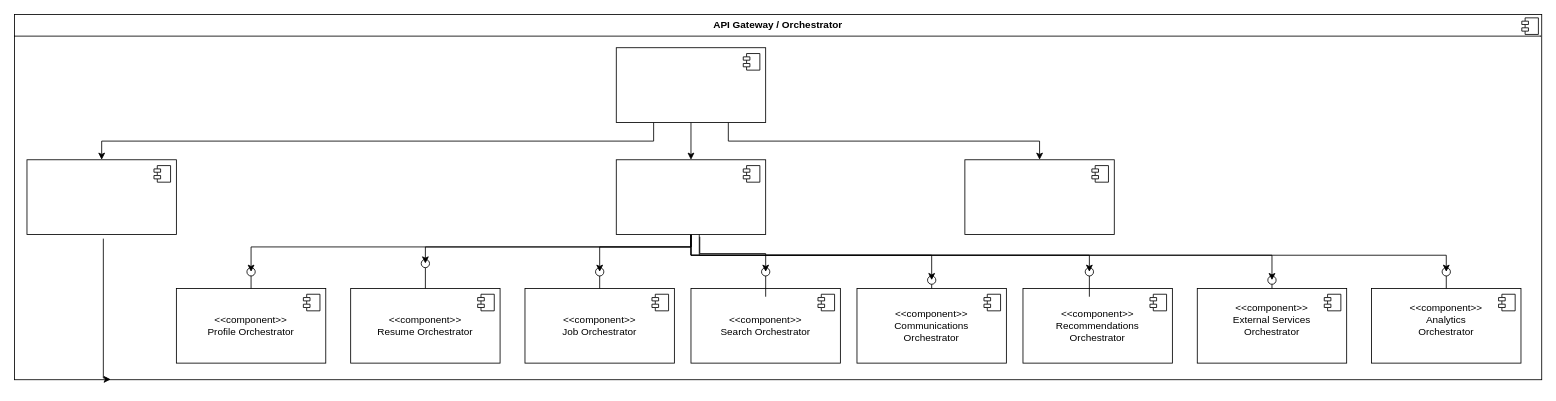
This 1556x401 diagram has some shape labels left out. The shapes that lost their labels are listed below. From the top down, each one's centre as x and y in pixels, then its label:
point 690,84: «component» API Gateway
point 101,196: <<component>> Authentication Handler
point 690,196: <<component>> Request Router
point 1039,196: <<component>> Request Validator
